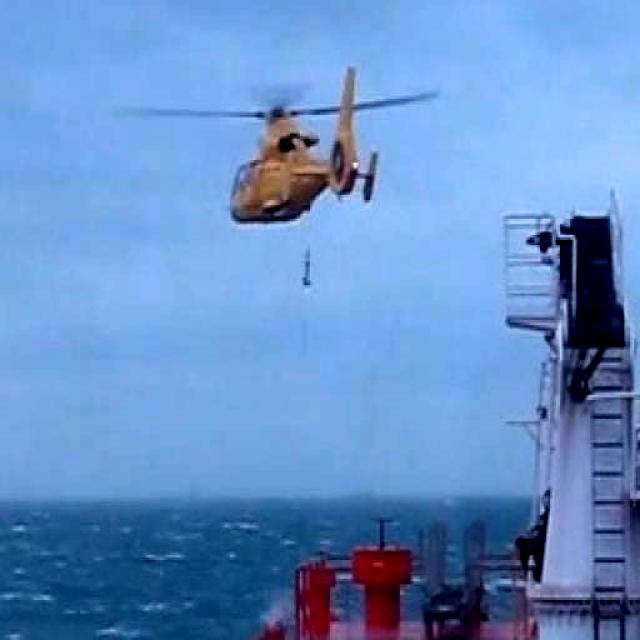drone: (200, 78, 398, 239)
